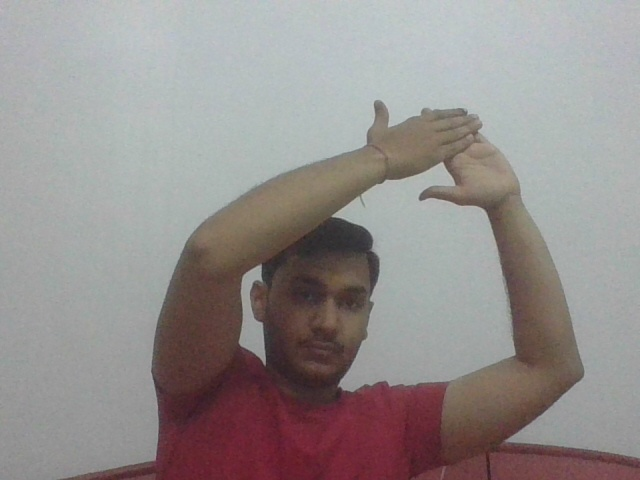H: (363, 93, 526, 212)
